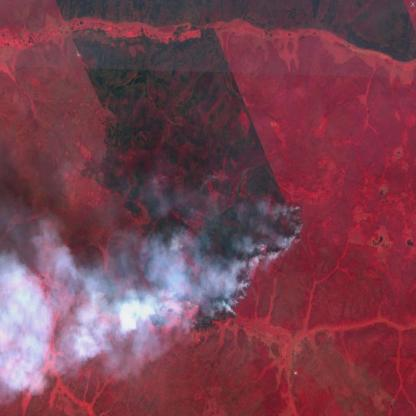fire: (99, 196, 306, 334)
